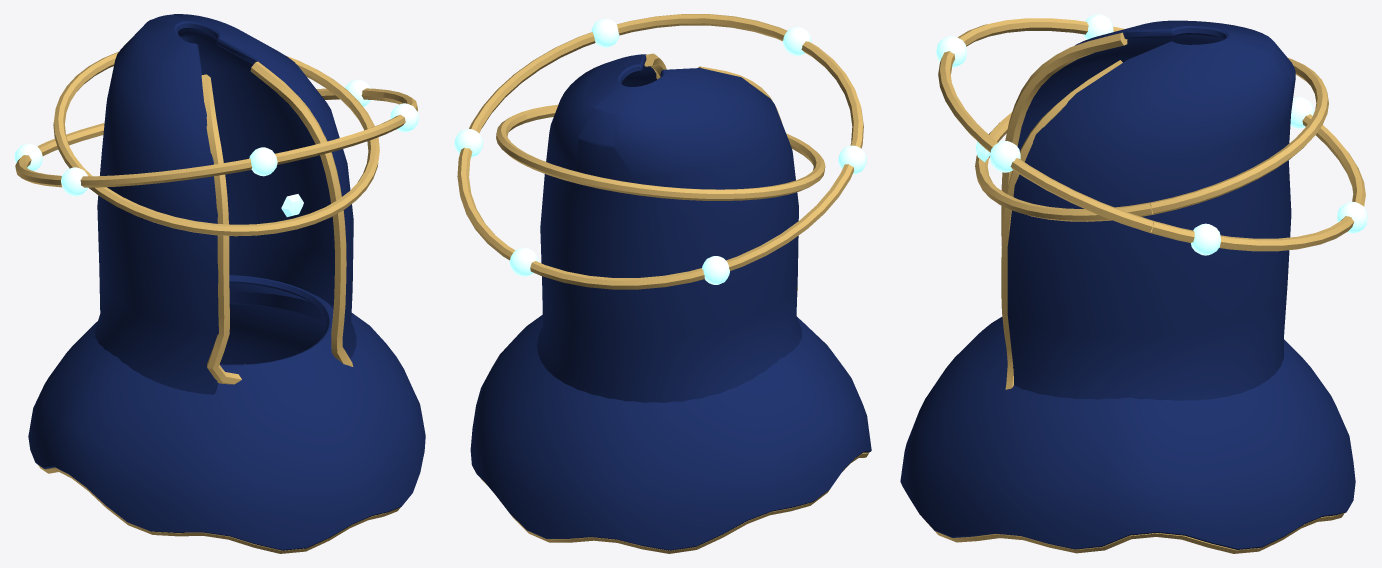
File: boss_thunder_abbot_helm.glb
3 renders of one model, left to right at view 1: azimuth 30°, elevation 25°; view 2: azimuth 150°, elevation 25°; view 3: azimuth 270°, elevation 25°, orthographic. The views are drawn at different scales.
Visible parts, largest first — view 1: boss_thunder_abbot_helm; view 2: boss_thunder_abbot_helm; view 3: boss_thunder_abbot_helm.
Boxes of the visible parts, x1,y1,x2,y2 form: boss_thunder_abbot_helm: (14,14,425,553); boss_thunder_abbot_helm: (454,14,871,553); boss_thunder_abbot_helm: (900,14,1367,553).
Bounding box in the file's own units: 0.6236 × 0.6979 × 0.6427.
